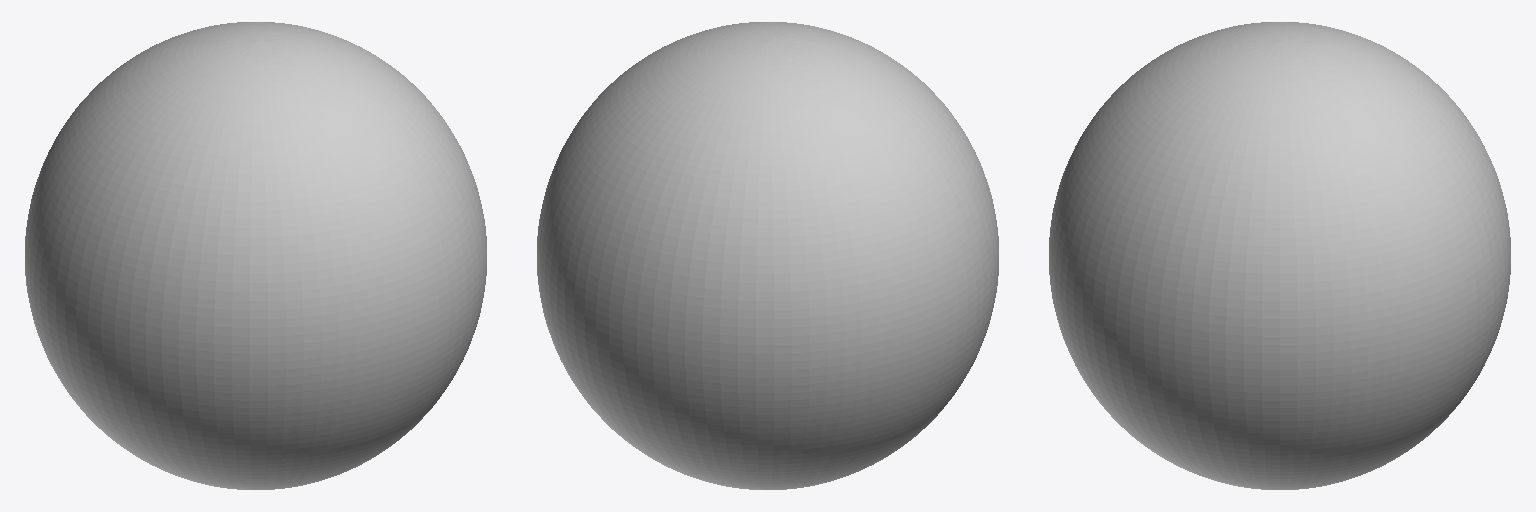
The model's file is m_neck.obj.
The picture shows the model from 3 angles: view 1: azimuth 30°, elevation 25°; view 2: azimuth 150°, elevation 25°; view 3: azimuth 270°, elevation 25°; orthographic projection.
Visible parts, largest first — view 1: pSphere2; view 2: pSphere2; view 3: pSphere2.
Part boxes in pixels (bbox=[...]): pSphere2: bbox=[25, 22, 486, 489]; pSphere2: bbox=[537, 22, 998, 489]; pSphere2: bbox=[1049, 22, 1510, 489].
Bounding box in the file's own units: 0.6032 × 0.614 × 0.6032.